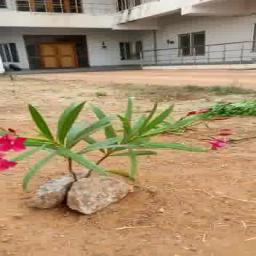OLEANDER: (5, 97, 232, 179)
